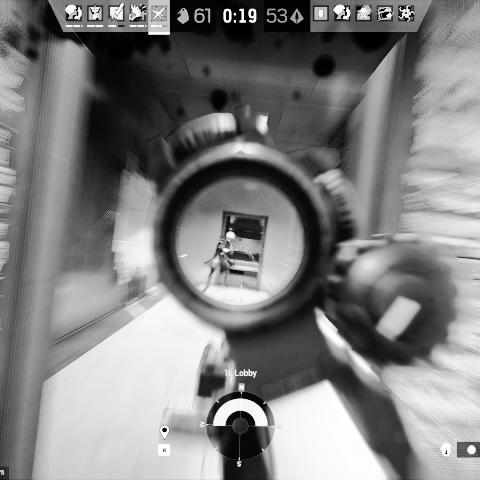Character: (202, 232, 237, 292)
Head: (226, 232, 235, 243)
